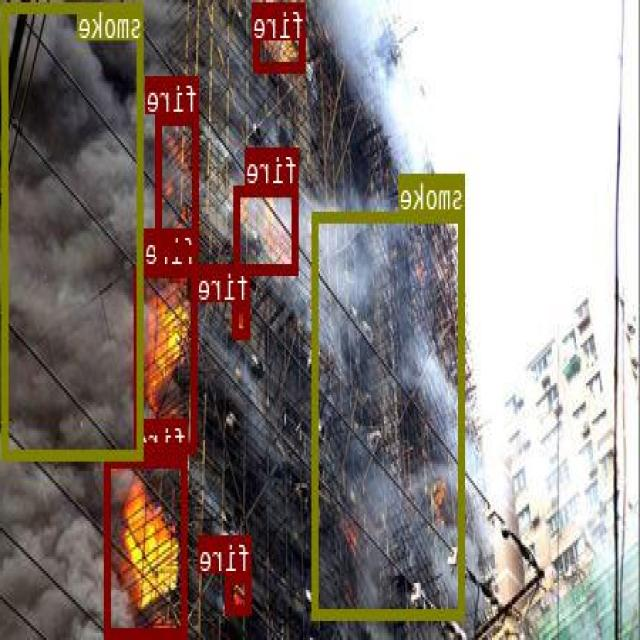fire: (106, 456, 188, 635), (136, 264, 199, 451), (158, 112, 200, 254), (235, 185, 300, 272), (255, 1, 307, 69), (227, 574, 253, 614), (234, 301, 252, 336)
smoke: (4, 2, 145, 459), (314, 210, 465, 617)
